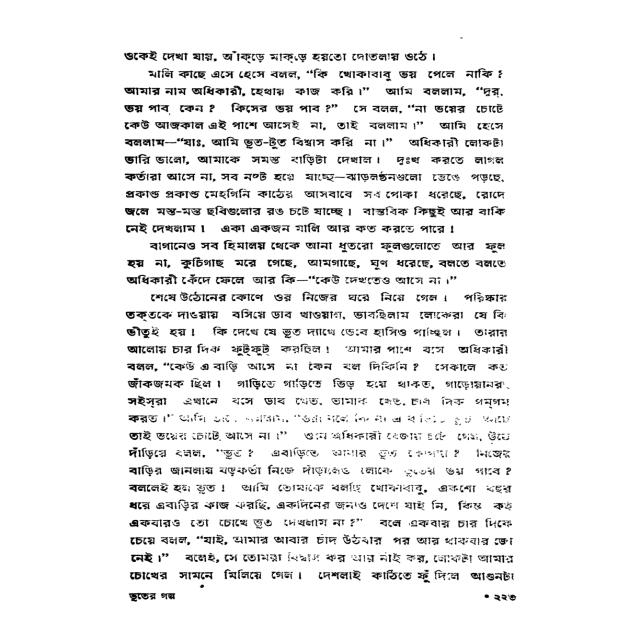page number: (485, 591, 521, 604)
paragraph: (121, 289, 518, 583), (118, 65, 509, 236), (123, 239, 509, 288), (115, 47, 439, 66)
text: (123, 588, 183, 605)
